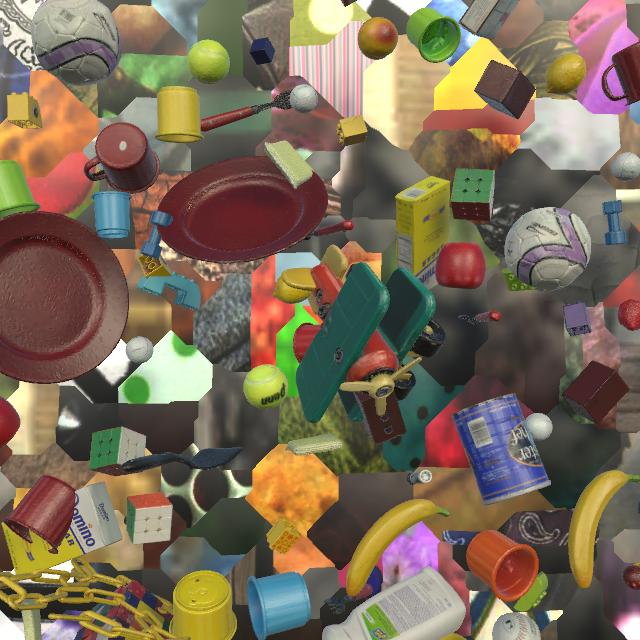ycb_002_master_chef_can: (451, 394, 551, 506)
ycb_004_sugar_box: (1, 481, 123, 575), (395, 176, 450, 290)
ycb_008_pudding_box: (458, 0, 520, 40)
ycb_009_gelatin_box: (341, 0, 357, 7)
ycb_011_banana: (346, 499, 450, 597), (568, 470, 640, 588)
ycb_012_strawberry: (617, 299, 640, 331)
ycb_013_apple: (435, 242, 486, 290), (0, 396, 21, 449)
ycb_014_lemon: (545, 53, 586, 95), (273, 276, 312, 304)
ycb_015_peach: (358, 17, 398, 60)
